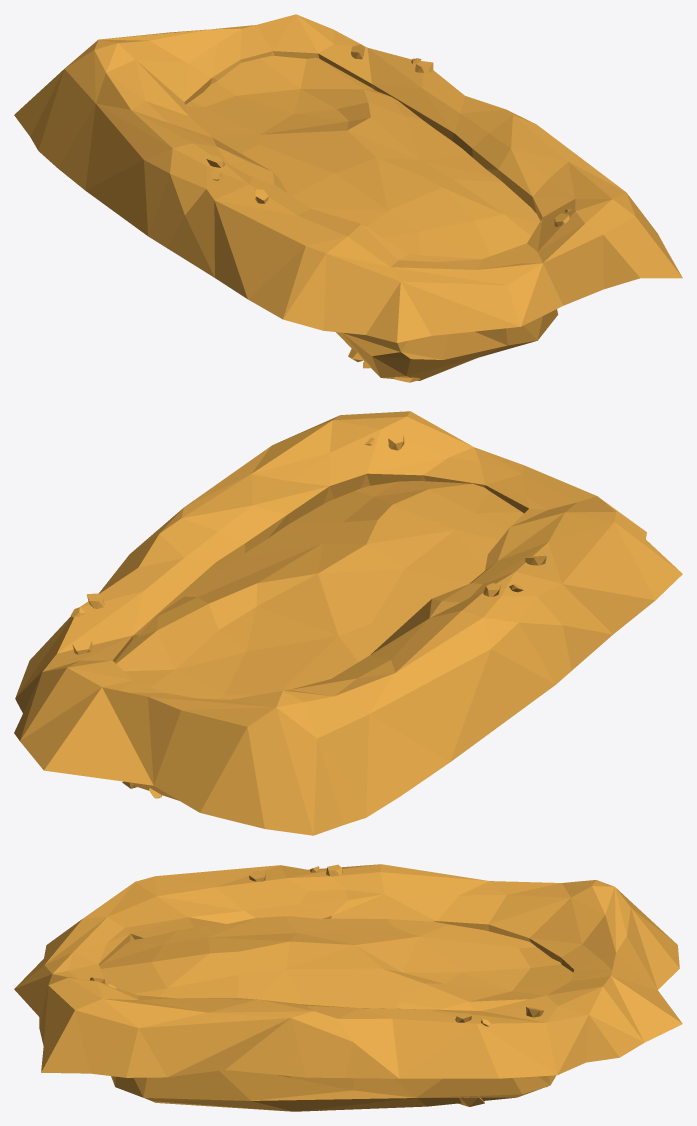
The model's file is hole-graveyard.fbx.
3 views of the same model, one above another, from view 1: azimuth 30°, elevation 25°; view 2: azimuth 150°, elevation 25°; view 3: azimuth 270°, elevation 25° (orthographic). The views are drawn at different scales.
Visible parts, largest first — view 1: hole-graveyard-base, hole-graveyard-fill; view 2: hole-graveyard-base, hole-graveyard-fill; view 3: hole-graveyard-base, hole-graveyard-fill.
Boxes of the visible parts, x1,y1,x2,y2 form: hole-graveyard-base: (14,14,682,382); hole-graveyard-fill: (185,56,540,259); hole-graveyard-base: (14,411,682,835); hole-graveyard-fill: (115,481,523,699); hole-graveyard-base: (14,864,682,1111); hole-graveyard-fill: (99,916,573,1010).
Size of the model in its own units: 2.07 by 0.8875 by 3.38.
